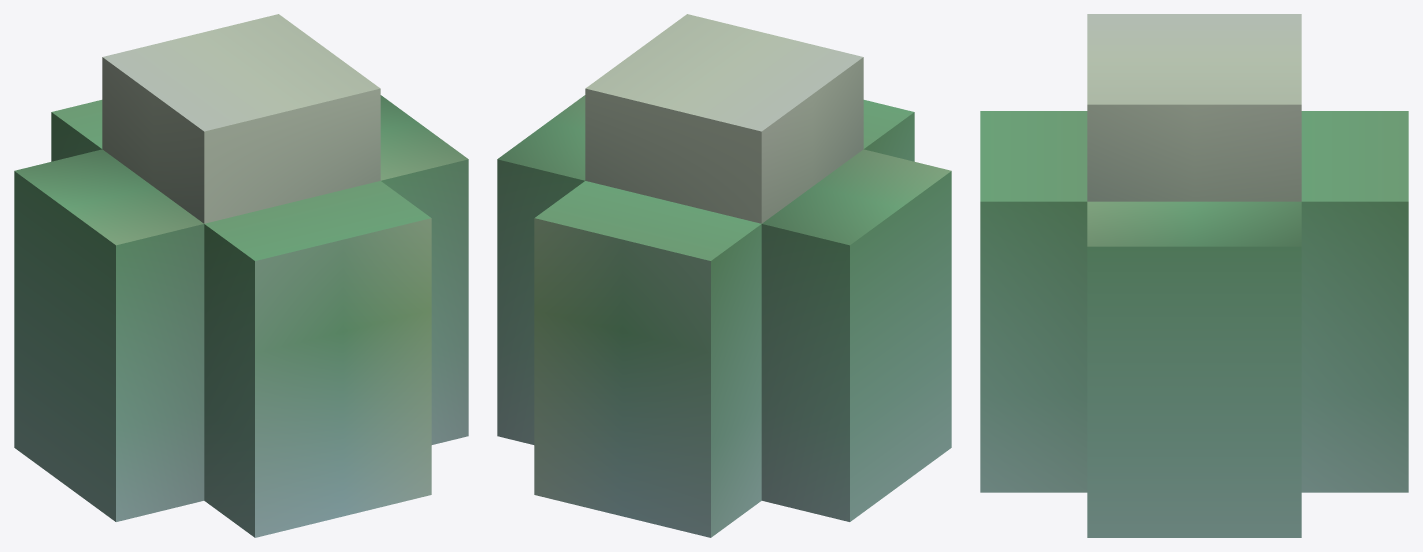
File: JarGreenGlass_01.obj
3 views of the same model, side by side, from view 1: azimuth 30°, elevation 25°; view 2: azimuth 150°, elevation 25°; view 3: azimuth 270°, elevation 25° (orthographic). The views are drawn at different scales.
Parts seen in each view (by area): view 1: JarGreenGlass_01; view 2: JarGreenGlass_01; view 3: JarGreenGlass_01.
Part boxes in pixels (left/top/right/bottom): JarGreenGlass_01: left=14, top=14, right=468, bottom=537; JarGreenGlass_01: left=497, top=14, right=951, bottom=537; JarGreenGlass_01: left=980, top=14, right=1408, bottom=537.
Size of the model in its own units: 0.2 by 0.2 by 0.2.
